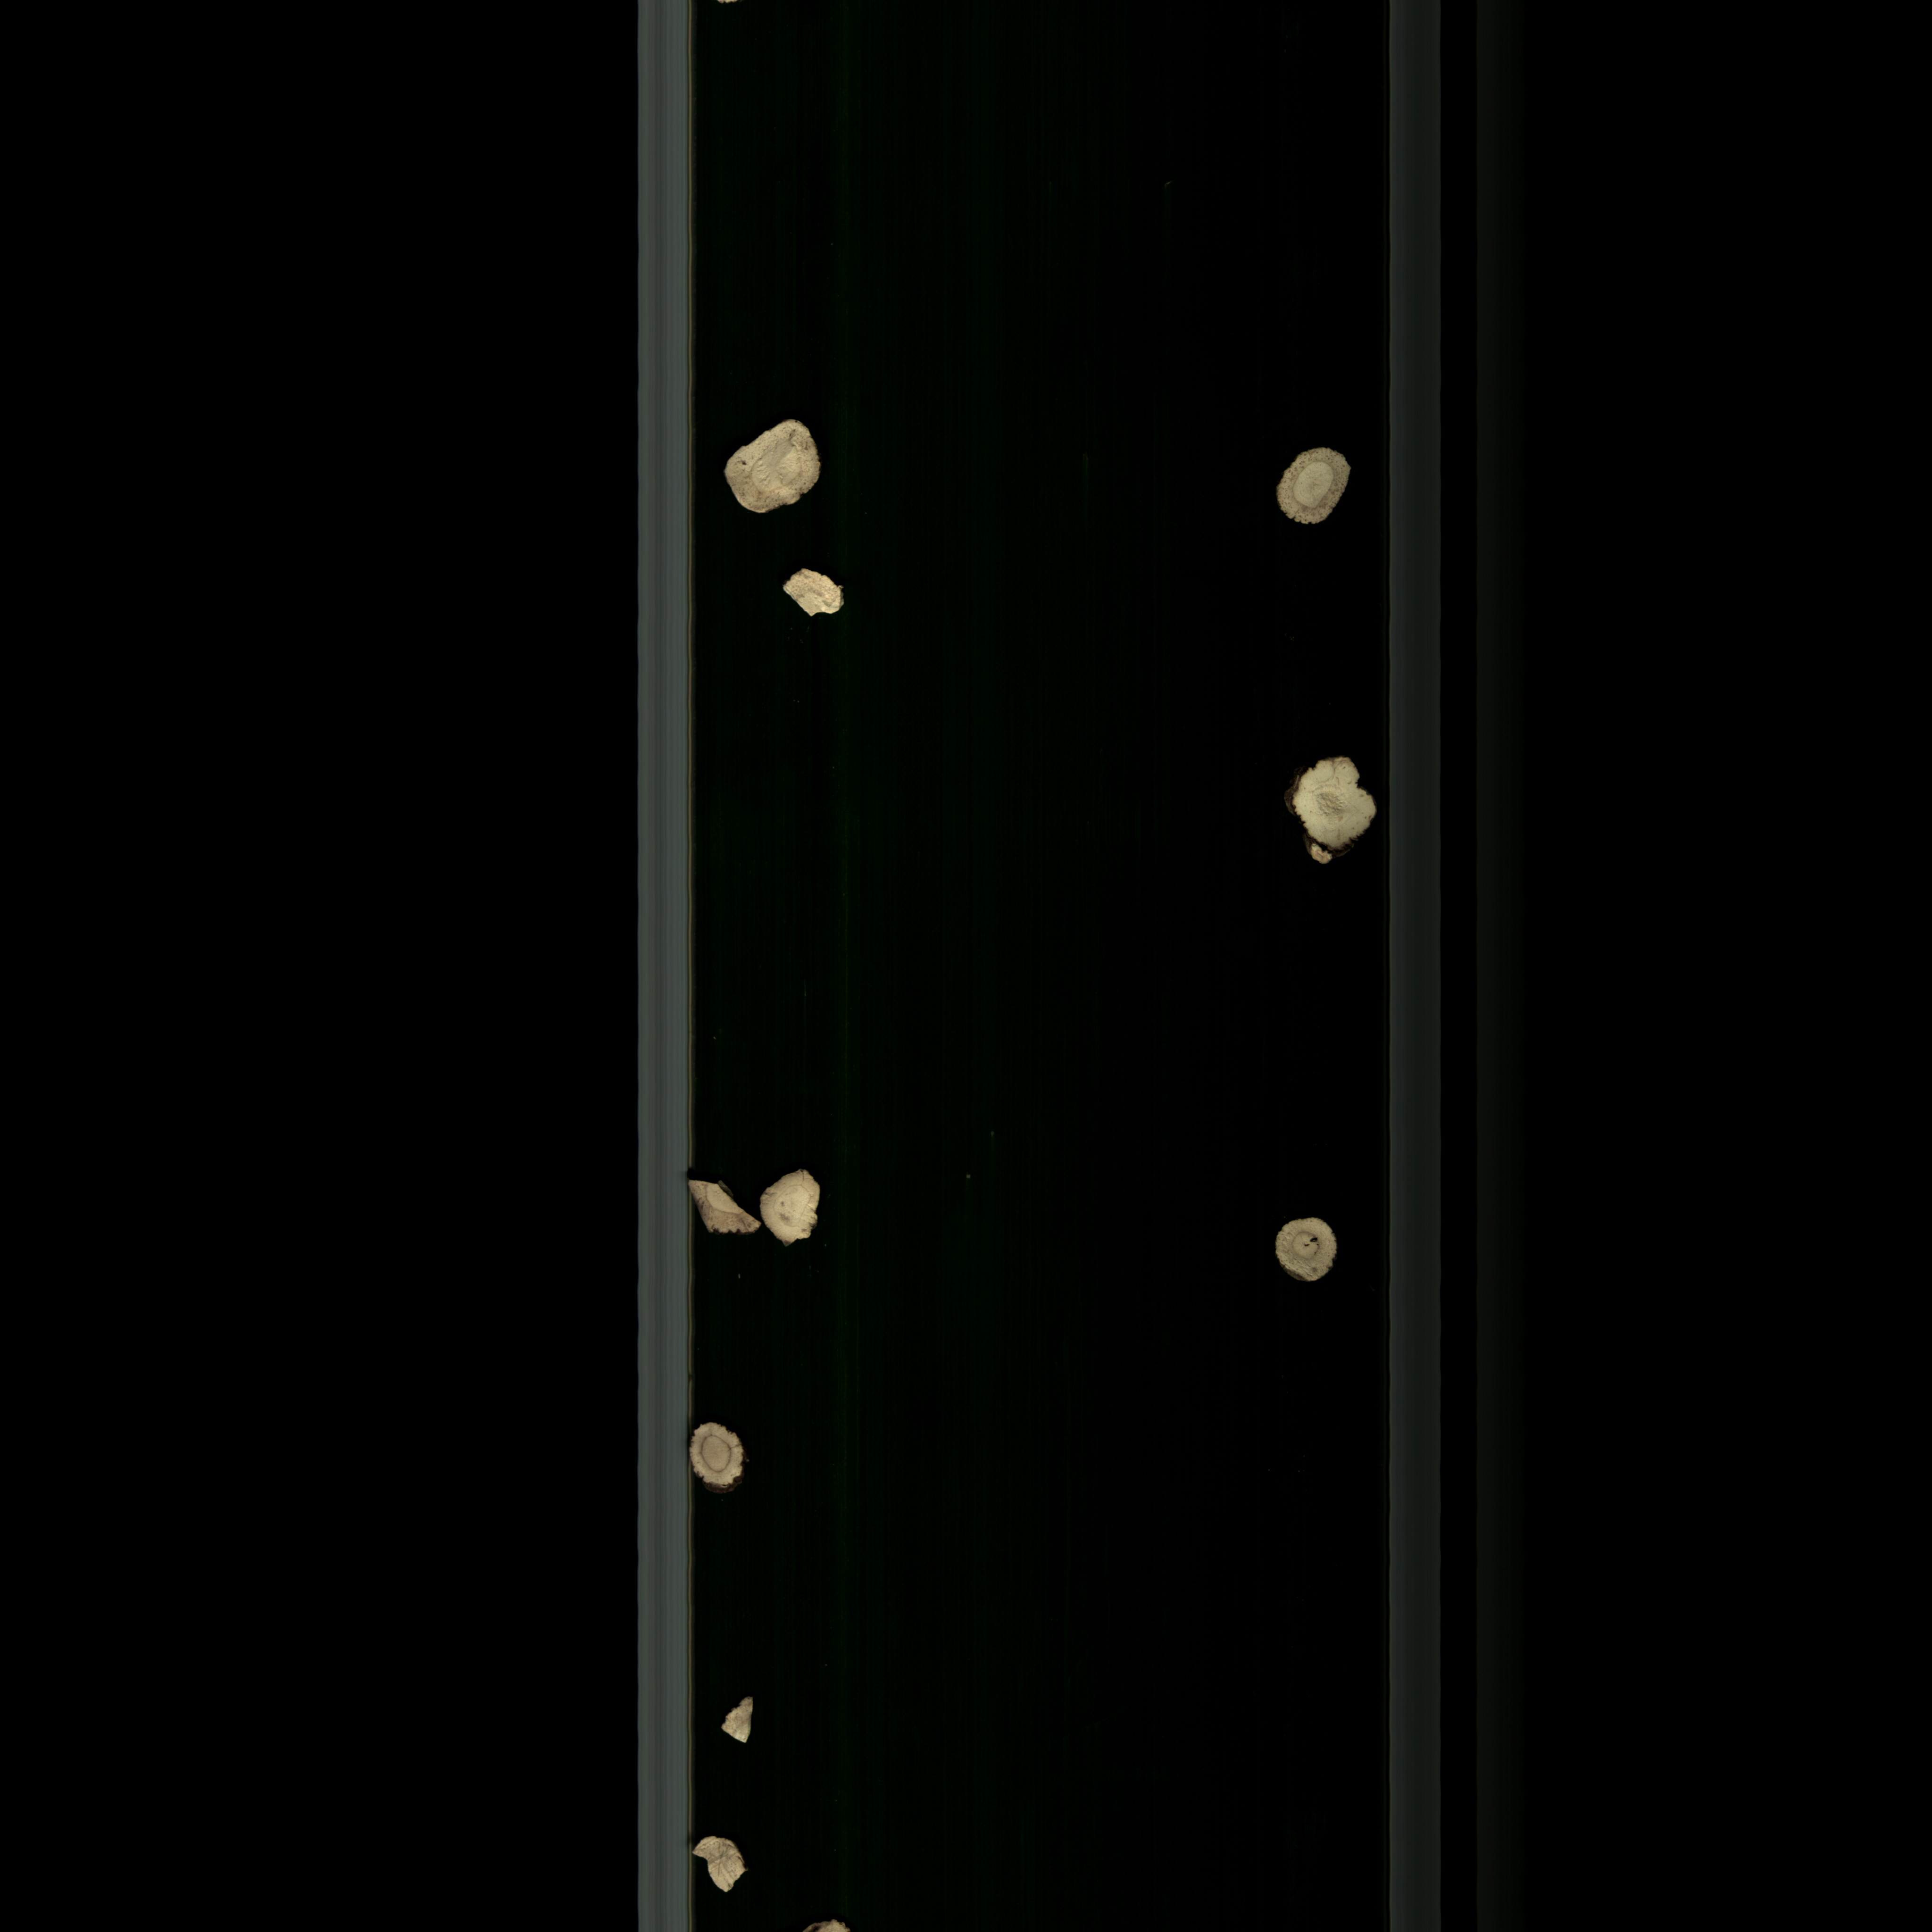bark: (1270, 745, 1385, 878)
debris: (752, 1162, 832, 1254), (683, 1168, 763, 1238), (773, 561, 847, 628), (692, 1828, 759, 1897)
dreg: (709, 1691, 768, 1752)
hole: (1265, 1207, 1343, 1293)
moldy: (709, 403, 830, 524), (1269, 437, 1361, 540), (685, 1417, 750, 1495)
